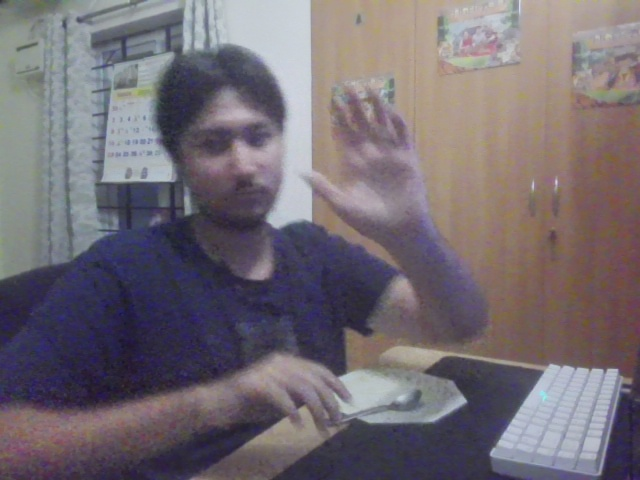hello: (298, 80, 439, 242)
